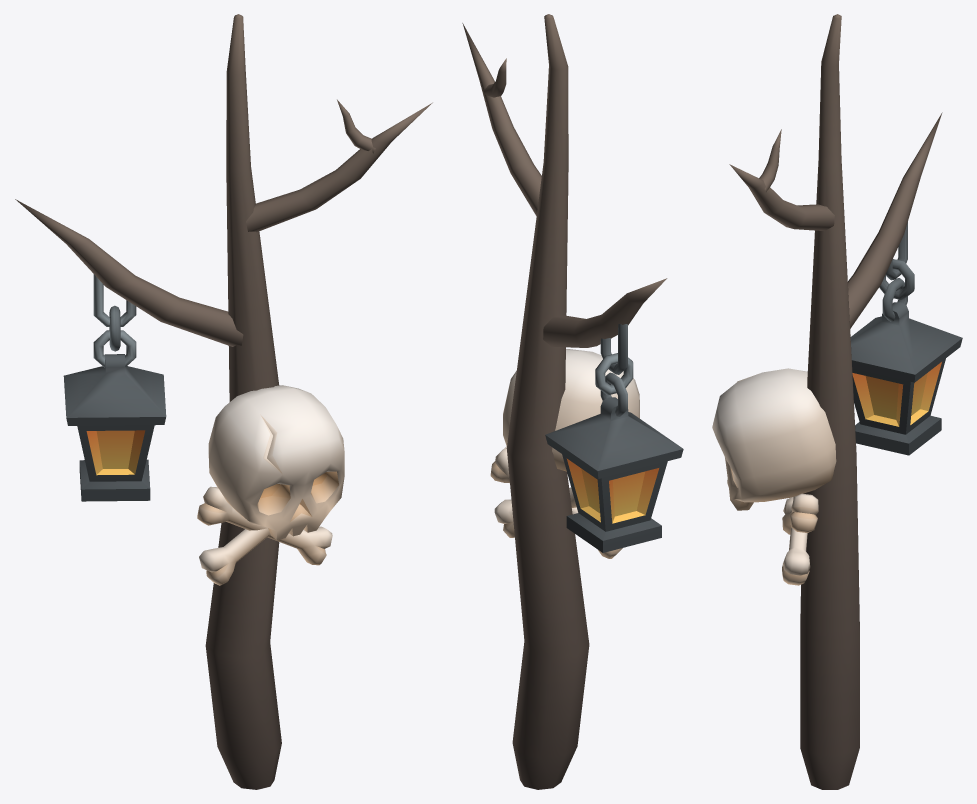
File: Tree Dead Large Decorated.glb
3 renders of one model, left to right at view 1: azimuth 30°, elevation 25°; view 2: azimuth 150°, elevation 25°; view 3: azimuth 270°, elevation 25°, orthographic.
Parts seen in each view (by area): view 1: tree_dead_large_decorated; view 2: tree_dead_large_decorated; view 3: tree_dead_large_decorated.
Part boxes in pixels (x1,y1,x2,y2): tree_dead_large_decorated: [15, 14, 432, 789]; tree_dead_large_decorated: [462, 14, 683, 789]; tree_dead_large_decorated: [712, 14, 962, 789].
Size of the model in its own units: 2.3 by 5.42 by 1.61.
1 material, 1 textured.
